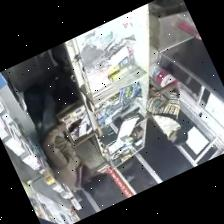person: (37, 81, 107, 195), (146, 82, 187, 144)
